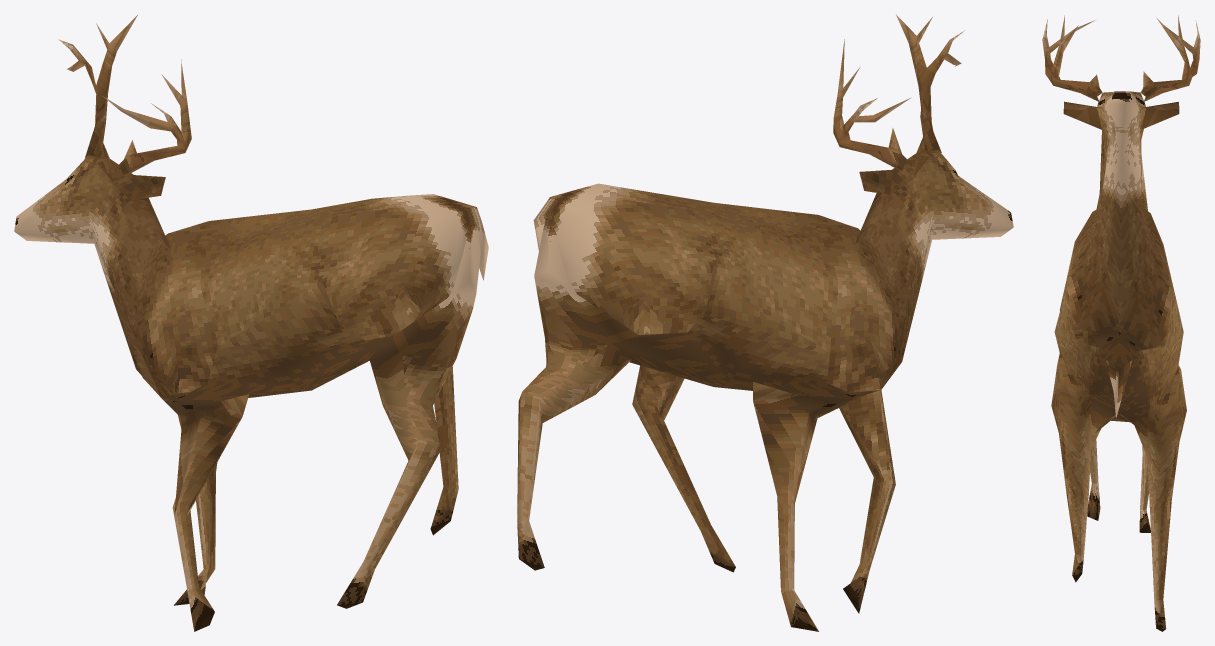
File: ps2_save-icons_cabelasbiggamehunter2002.glb
The picture shows the model from 3 angles, left to right: view 1: azimuth 30°, elevation 25°; view 2: azimuth 150°, elevation 25°; view 3: azimuth 270°, elevation 25°; orthographic projection. The views are drawn at different scales.
Visible parts, largest first — view 1: static.ico; view 2: static.ico; view 3: static.ico.
Boxes of the visible parts, <box> form: static.ico: <box>14,15,488,631</box>; static.ico: <box>517,14,1013,631</box>; static.ico: <box>1042,15,1200,631</box>.
Bounding box in the file's own units: 3.28 × 4.03 × 1.17.
1 material, 1 textured.
